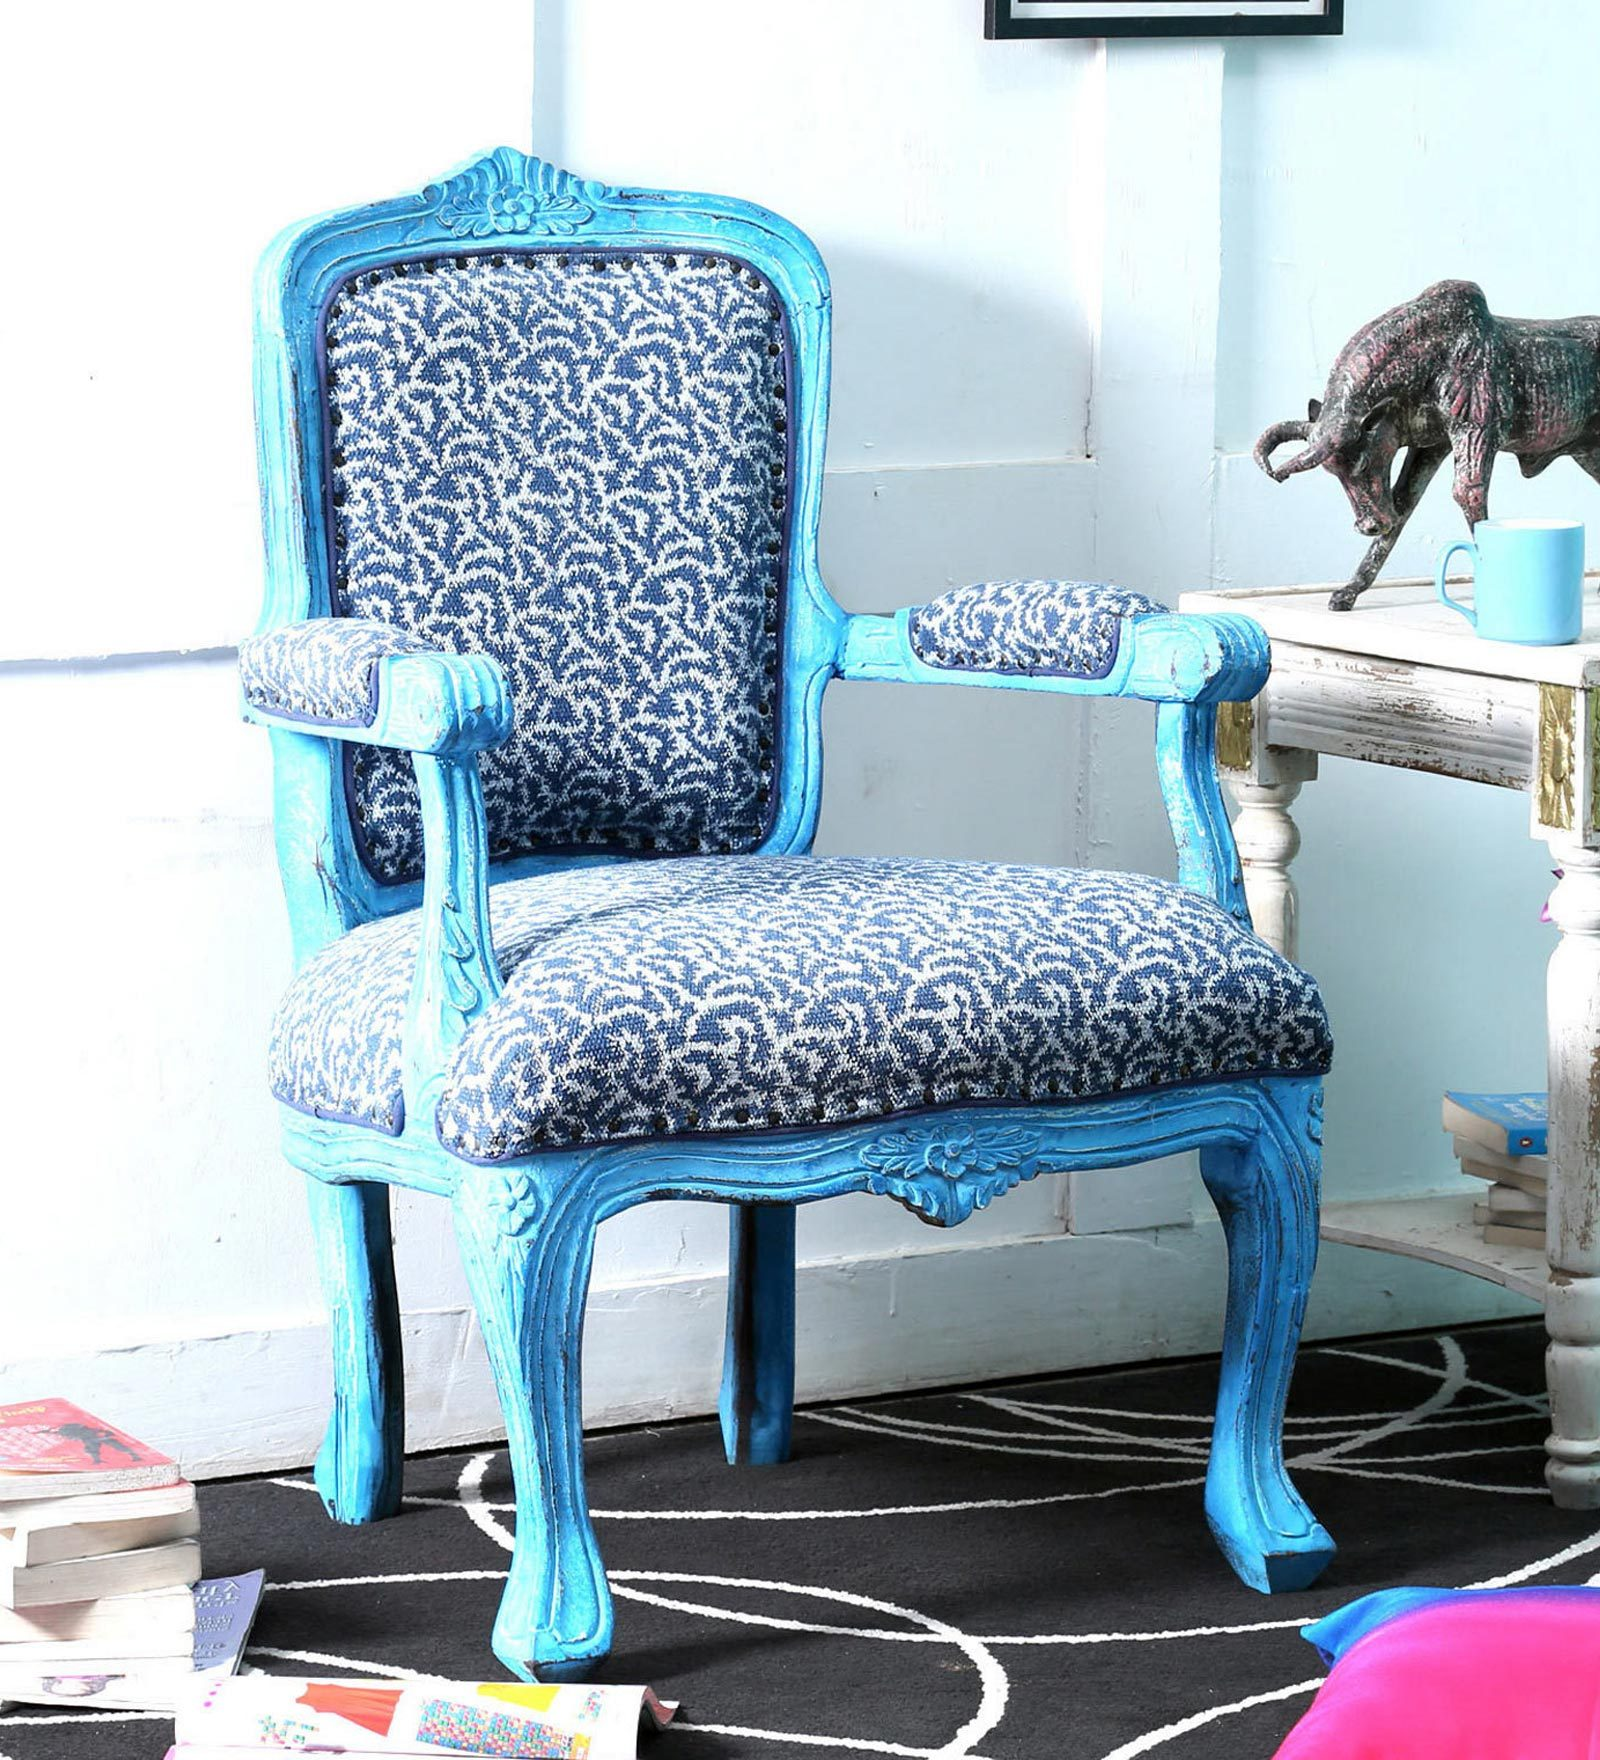Ekati Metal Chair in White Color with Wooden Seat by Bohemiana: (196, 130, 1401, 1689)
Elton Arm Chair in Blue Colour by Bohemiana: (182, 130, 1376, 1680)
